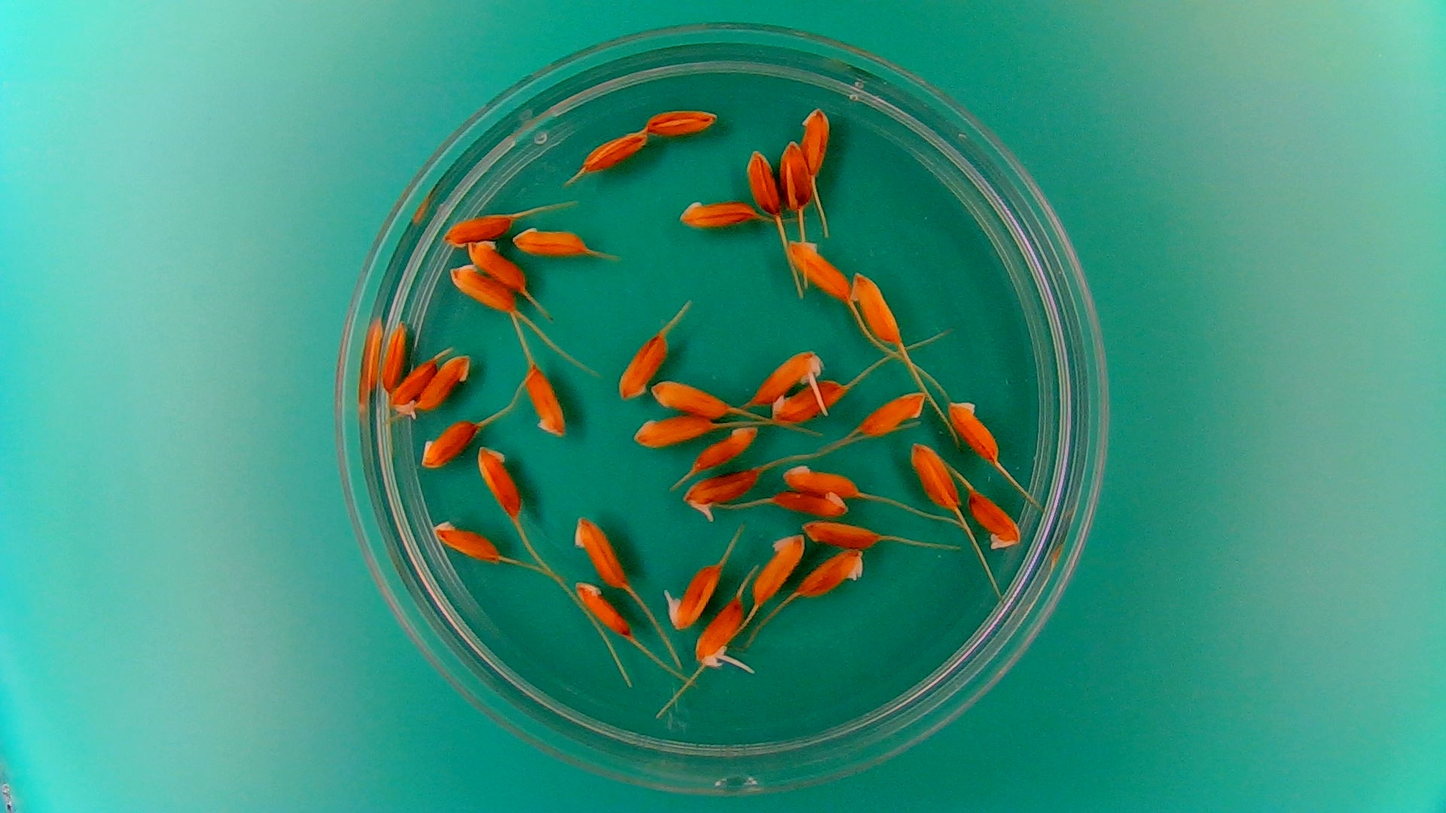no: (783, 236, 853, 302), (572, 513, 627, 589), (908, 438, 962, 515), (752, 532, 806, 609), (445, 262, 519, 315), (946, 397, 1003, 465), (615, 328, 667, 400), (770, 377, 848, 425), (852, 270, 903, 343), (477, 443, 524, 521), (688, 424, 761, 474), (519, 363, 567, 438), (468, 236, 529, 295), (797, 547, 867, 598), (968, 488, 1023, 551), (578, 126, 650, 174), (416, 351, 471, 412), (423, 415, 484, 469), (650, 378, 732, 418), (574, 582, 633, 637), (429, 519, 503, 562), (858, 389, 927, 435), (675, 194, 759, 230), (633, 413, 716, 449), (510, 222, 592, 258), (780, 461, 862, 497), (439, 210, 518, 247), (801, 519, 887, 552), (744, 144, 782, 215), (768, 486, 849, 519), (642, 105, 718, 139), (779, 139, 811, 215), (799, 102, 830, 179), (379, 319, 409, 394)
yes: (746, 349, 821, 406), (667, 560, 721, 628), (696, 597, 744, 669), (683, 465, 754, 510), (386, 354, 437, 414)
